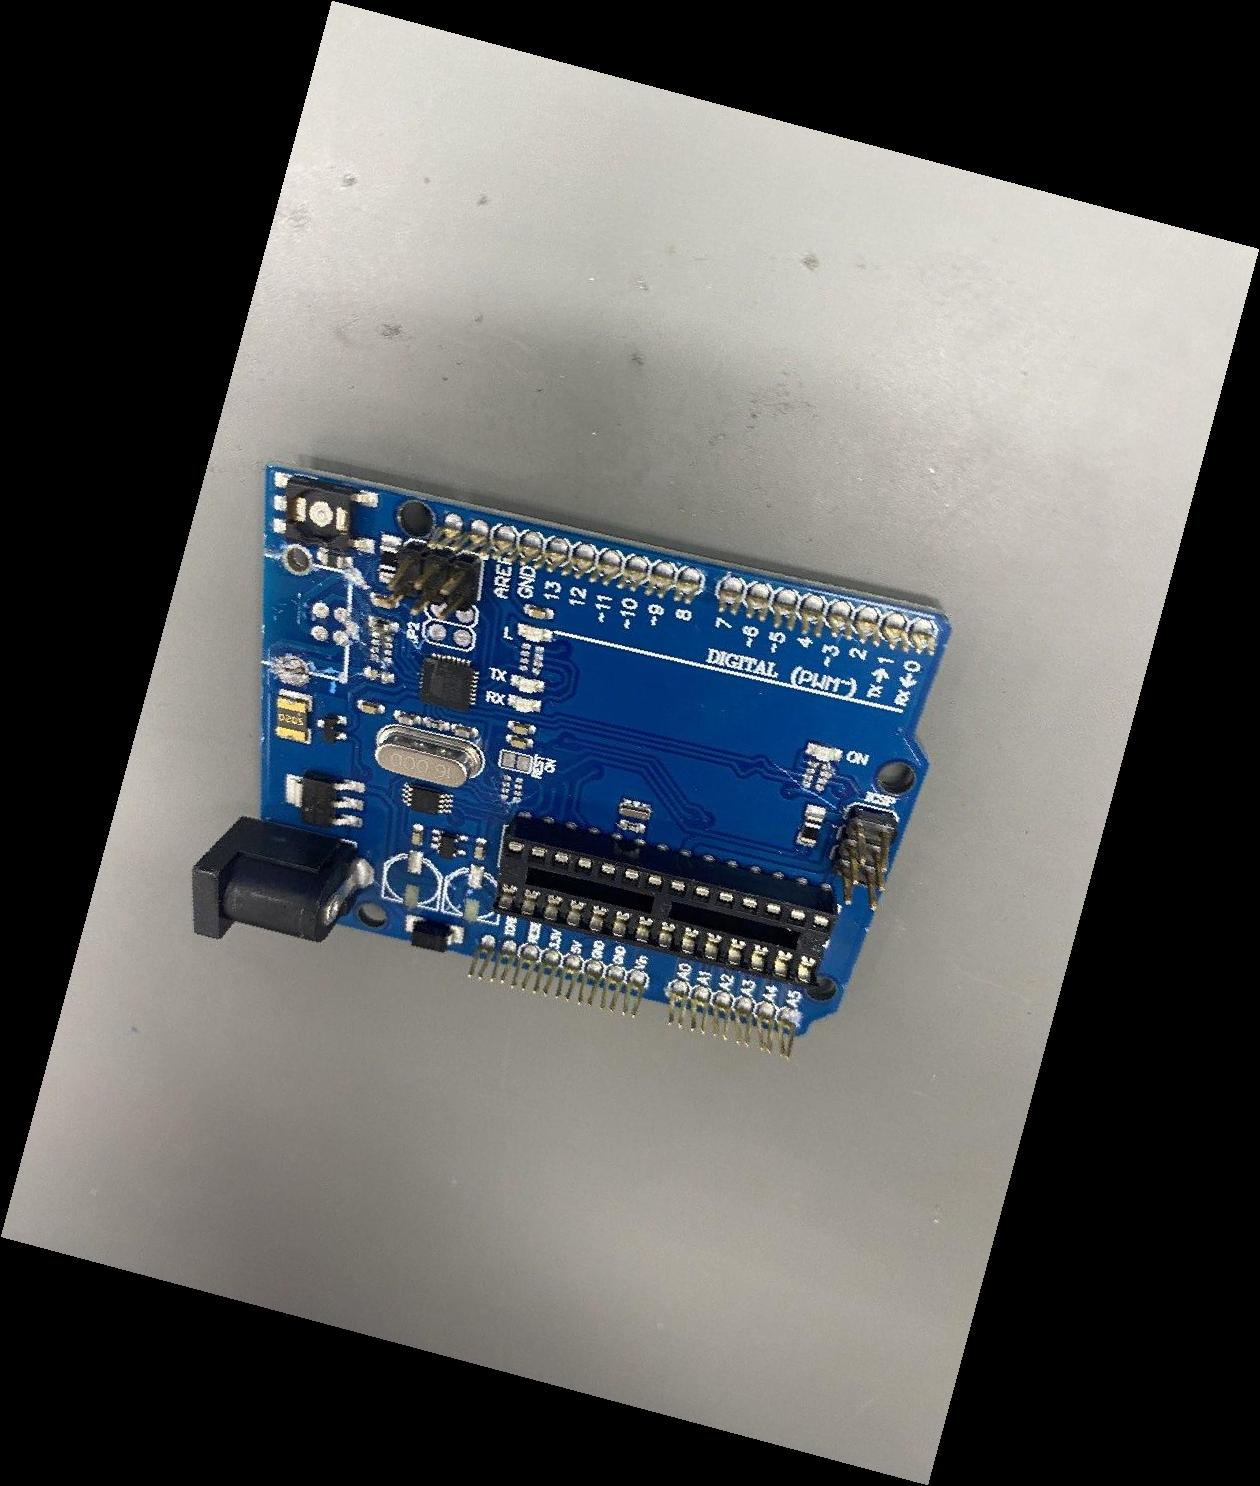Arduino board: (191, 464, 950, 1060)
